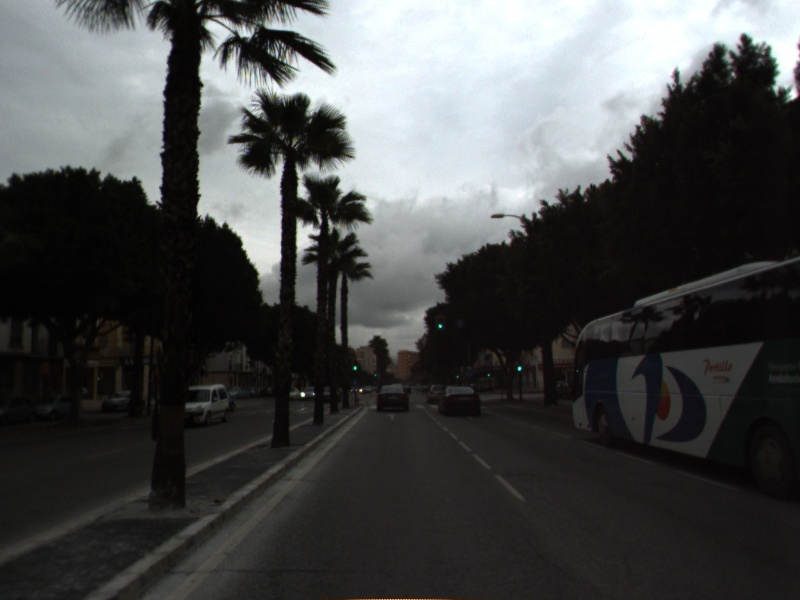STRAIGHT: (383, 411, 401, 422)
